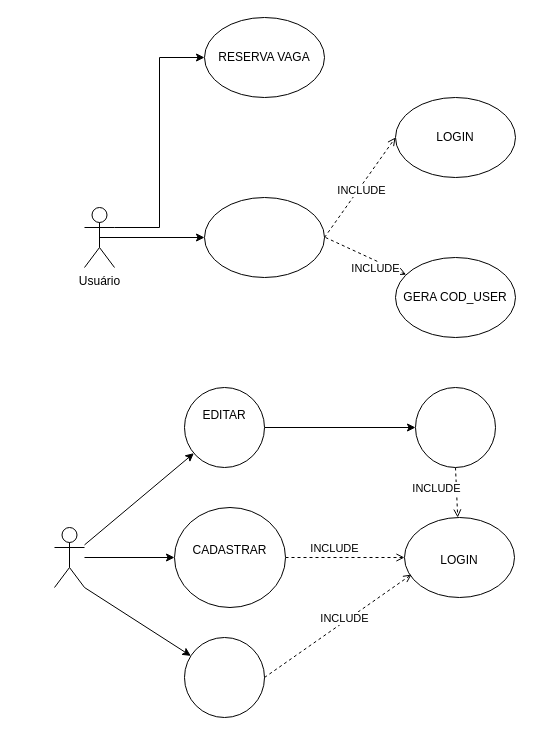
Some shapes in this 533 by 735 pixel diagram are drawn without their labels. Here are the shapes that lost their labels. From the top down, the centre of each, then its label:
At point 264,237: "CADASTRA".
At point 455,427: "INSERIR RFID".
At point 69,557: "admin / Funcionário".
At point 224,677: "EXCLUIR".
